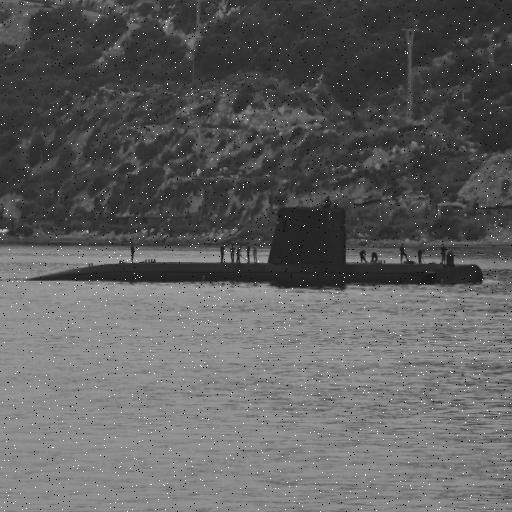submarine: (1, 203, 489, 279)
